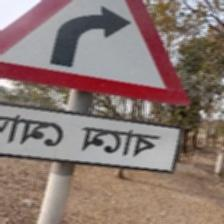Left-Turn: (0, 0, 190, 170)
